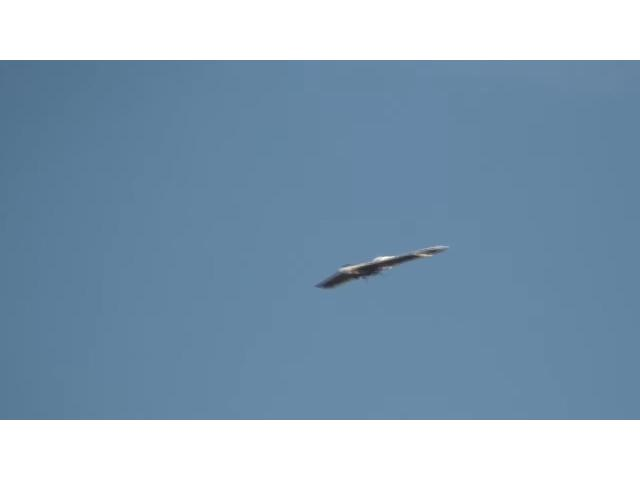Anti-Drone: (318, 246, 446, 288)
